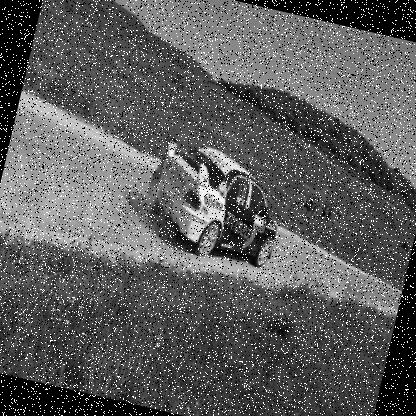Car: (136, 136, 291, 272)
